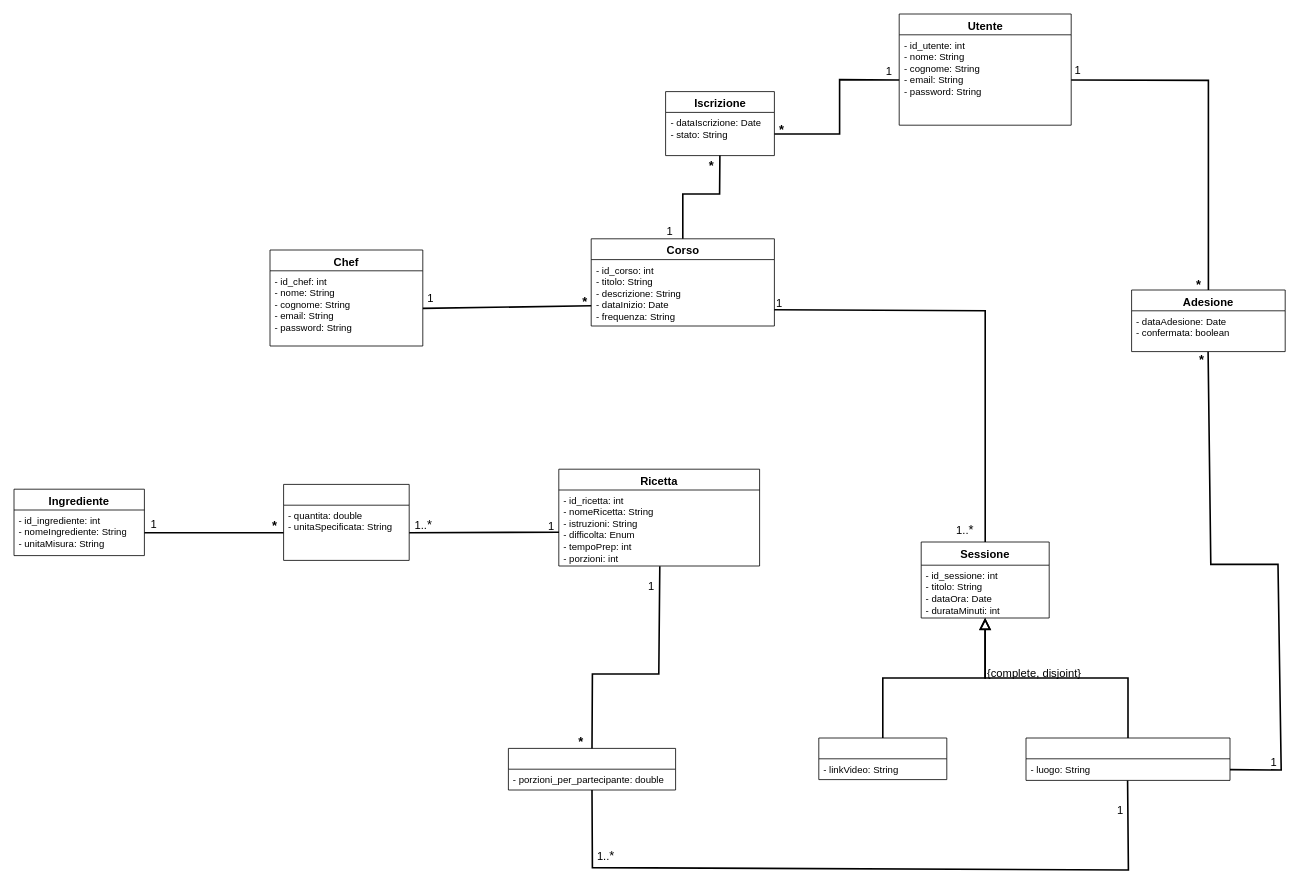
The diagram is 1312 pixels wide and 886 high, and some of its shapes have lost their labels. Each missing label, with the box of its shape:
ComposizioneRicetta: (283, 484, 409, 560)
ProgrammaSessione: (508, 748, 676, 790)
SessioneInPresenza: (1025, 737, 1230, 780)
SessioneOnline: (818, 737, 947, 780)
